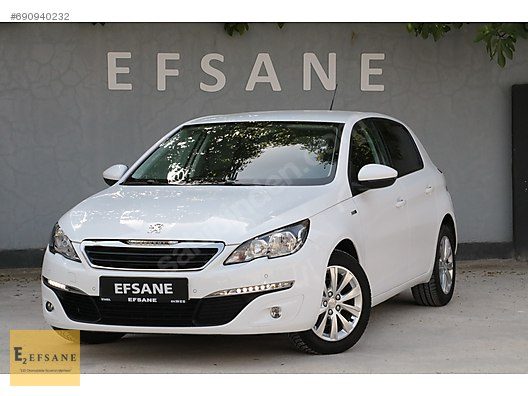peugeot: (17, 118, 469, 350)
